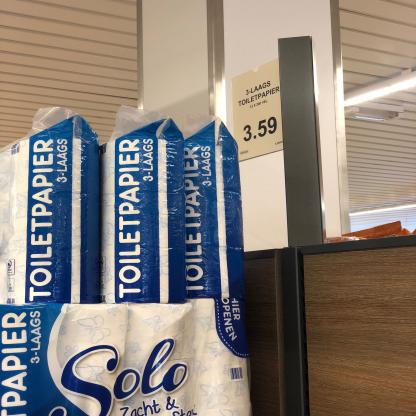prtg: (232, 59, 284, 163)
